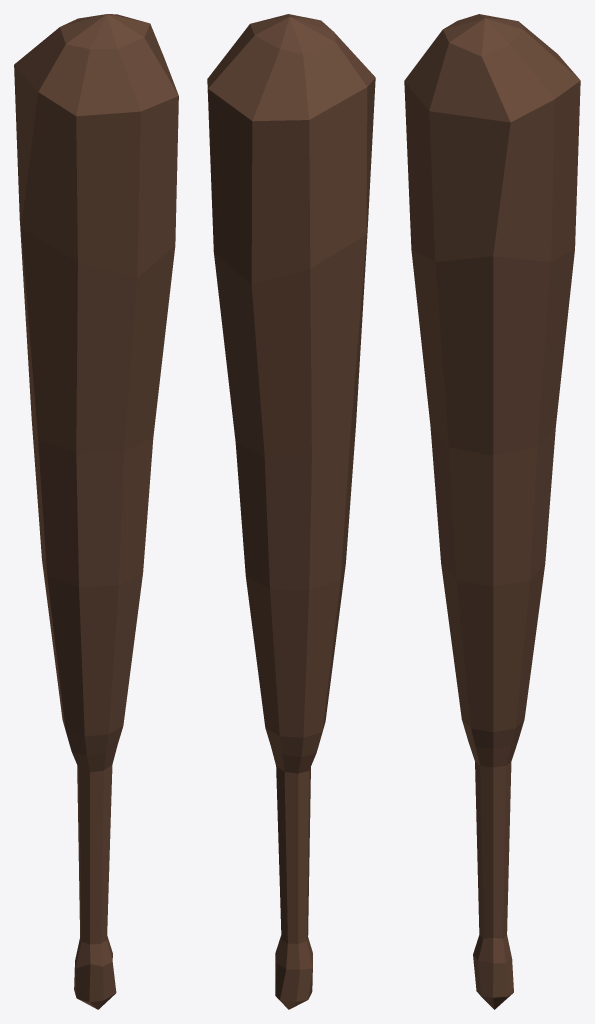
Rendered from bat.fbx.
3 views of the same model, side by side, from view 1: azimuth 30°, elevation 25°; view 2: azimuth 150°, elevation 25°; view 3: azimuth 270°, elevation 25° (orthographic).
Parts seen in each view (by area): view 1: stick; view 2: stick; view 3: stick.
Boxes of the visible parts, <box> form: stick: <box>14,14,178,1009</box>; stick: <box>207,14,375,1009</box>; stick: <box>404,14,580,1009</box>.
Size of the model in its own units: 7.93 by 49.7 by 7.99.
